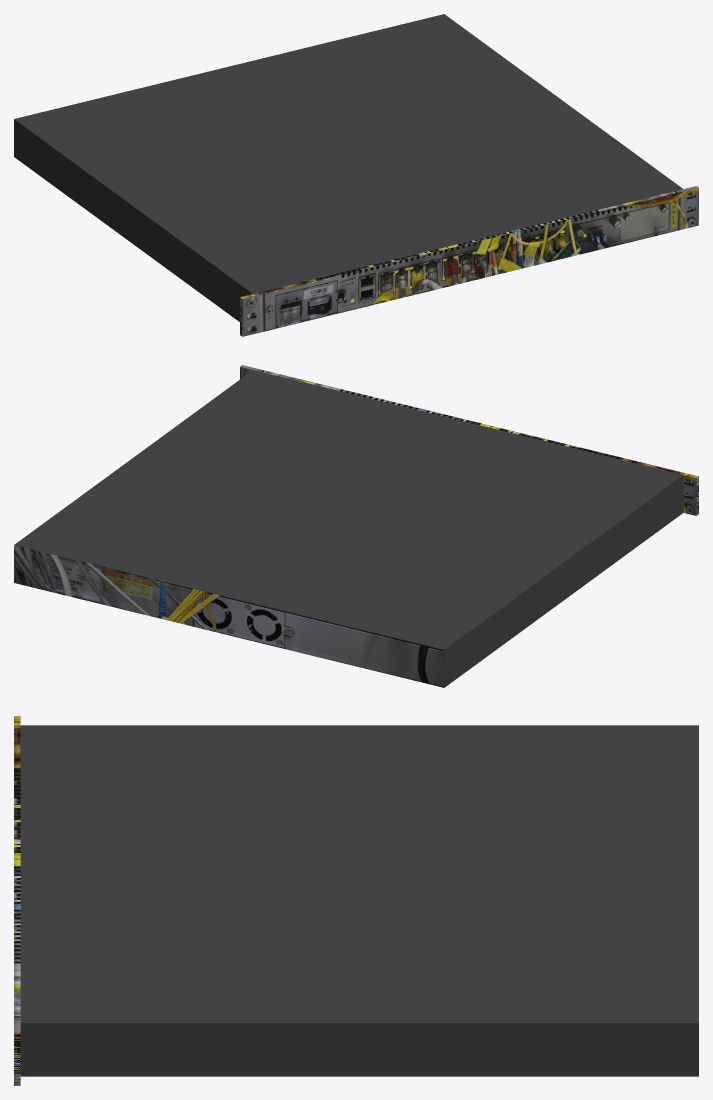
3 views of the same model, one above another, from view 1: azimuth 30°, elevation 25°; view 2: azimuth 150°, elevation 25°; view 3: azimuth 270°, elevation 25° (orthographic). The views are drawn at different scales.
Visible parts, largest first — view 1: V2724GB; view 2: V2724GB; view 3: V2724GB.
Boxes of the visible parts, x1,y1,x2,y2 form: V2724GB: (14,14,698,336); V2724GB: (14,365,698,687); V2724GB: (14,716,698,1085).
Size of the model in its own units: 560 by 44.45 by 513.
Materials: 3 (2 with a texture image).
